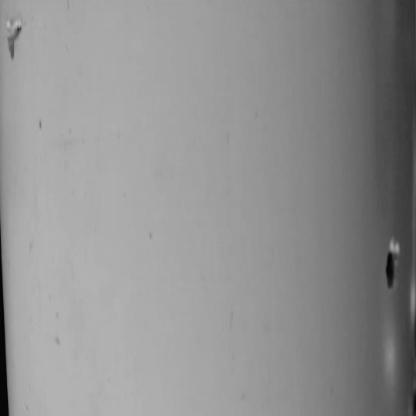kongdong: (365, 238, 407, 300), (1, 17, 37, 61)
